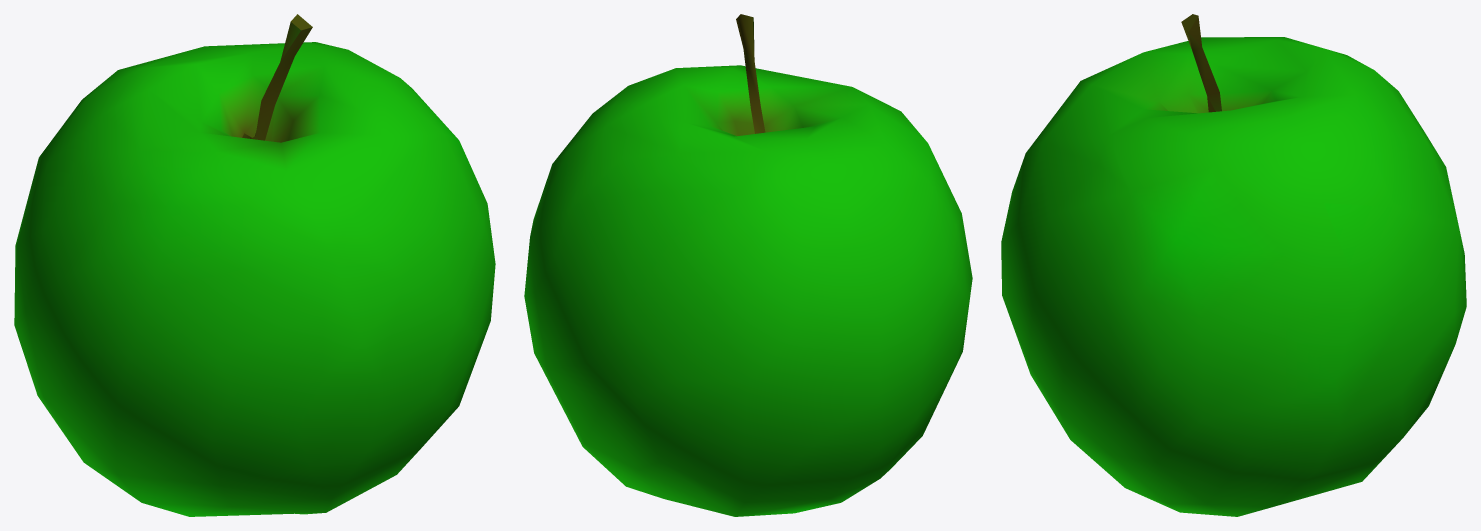
3 renders of one model, left to right at view 1: azimuth 30°, elevation 25°; view 2: azimuth 150°, elevation 25°; view 3: azimuth 270°, elevation 25°, orthographic. The views are drawn at different scales.
Visible parts, largest first — view 1: SM_Apple; view 2: SM_Apple; view 3: SM_Apple.
Boxes of the visible parts, x1=… form: SM_Apple: x1=14, y1=14, x2=495, y2=516; SM_Apple: x1=524, y1=14, x2=972, y2=516; SM_Apple: x1=1001, y1=14, x2=1466, y2=516.
Size of the model in its own units: 1.84 by 2 by 1.81.
